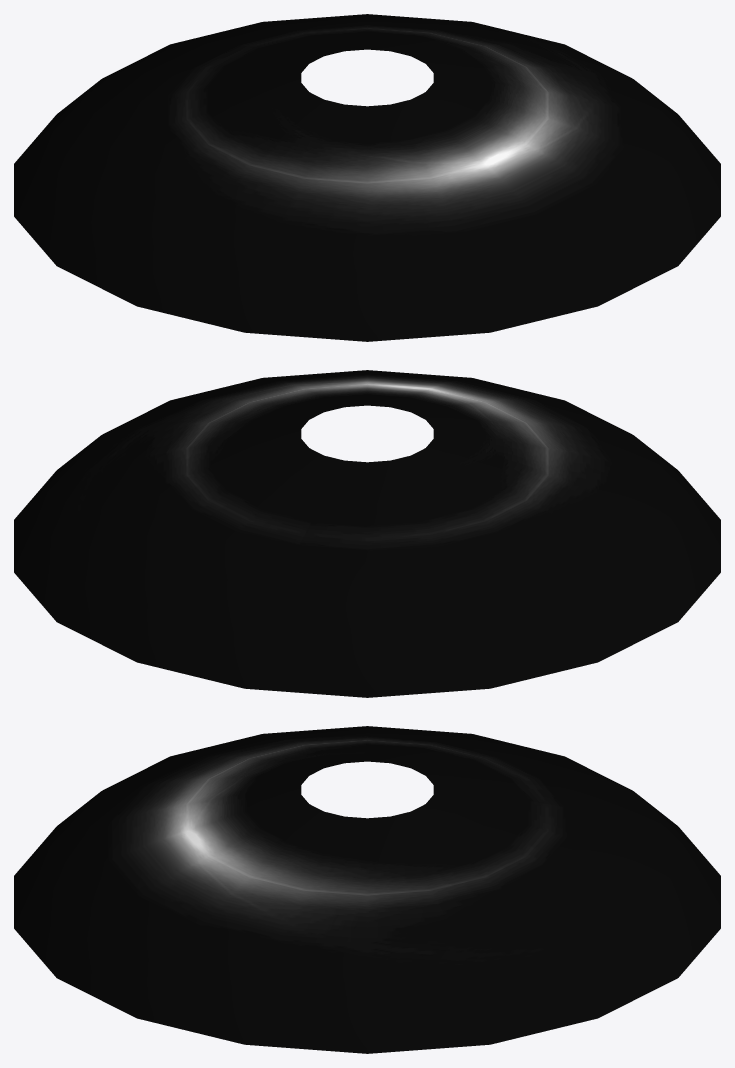
File: 0122_RiShiNaiKeLuoZiMa_SkillB_Mesh_03.glb
The picture shows the model from 3 angles, top to bottom: view 1: azimuth 30°, elevation 25°; view 2: azimuth 150°, elevation 25°; view 3: azimuth 270°, elevation 25°; orthographic projection.
Bounding box in the file's own units: 2.2 × 0.3797 × 2.17.
1 material, 1 textured.
